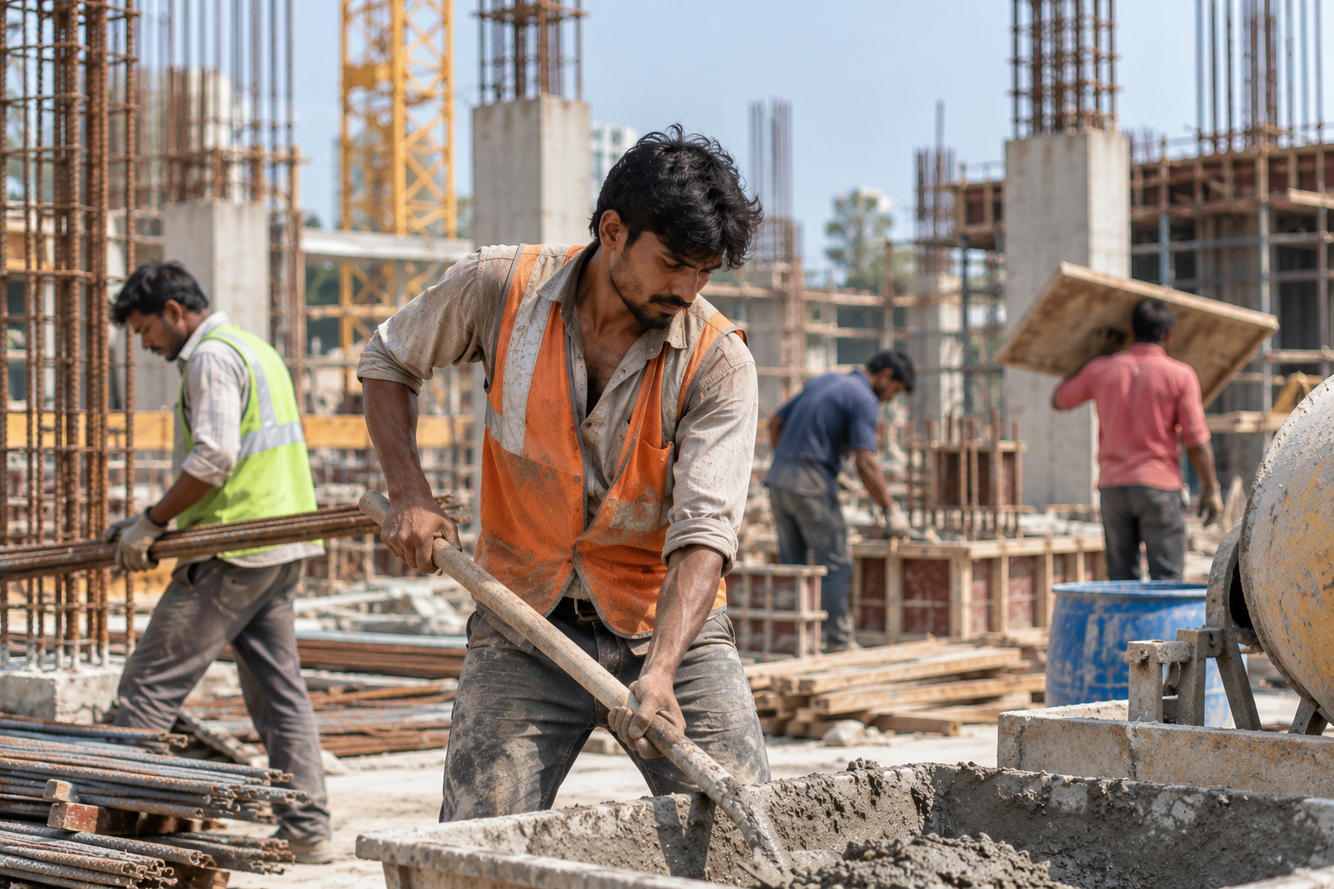no_hardhat: (592, 111, 761, 251), (100, 251, 198, 317), (1113, 285, 1187, 337), (863, 323, 907, 389)
no_safety_vest: (1057, 345, 1203, 494), (771, 375, 865, 504)
person: (352, 97, 845, 866), (76, 227, 332, 868), (1035, 267, 1257, 712), (767, 313, 917, 728)
safety_vest: (486, 263, 724, 644), (164, 335, 322, 574)
